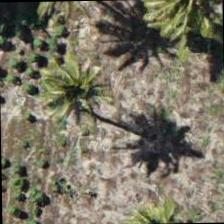Kelapa_Sawit: (28, 38, 119, 130), (140, 0, 223, 49)
